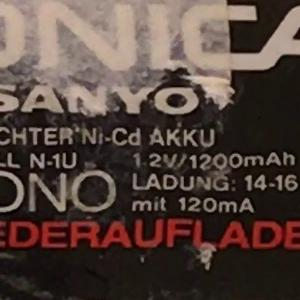keyword: (66, 118, 137, 149)
